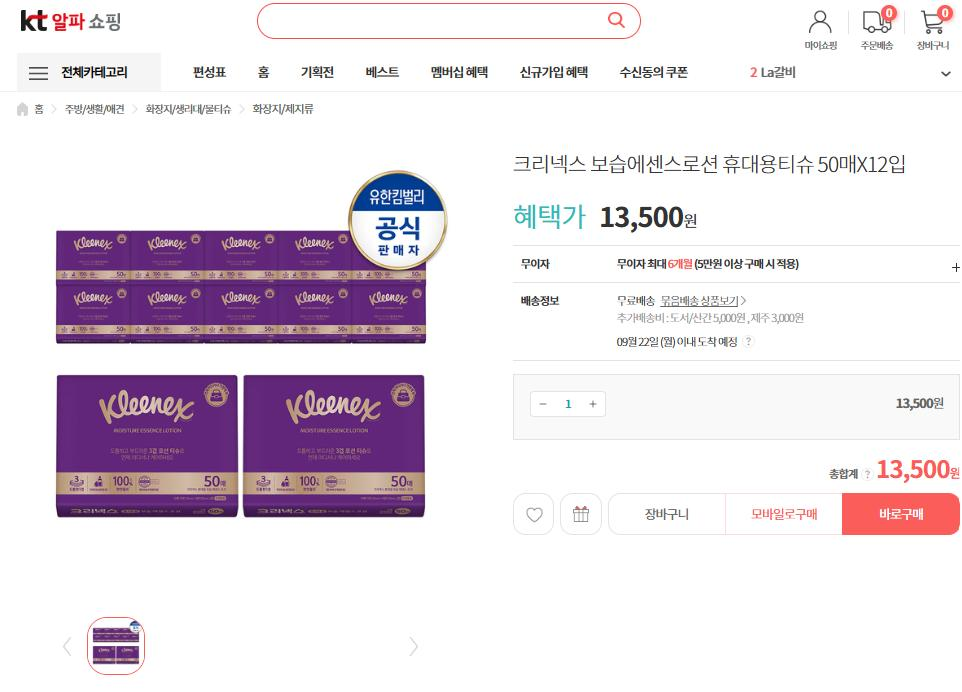button: (845, 492, 959, 535), (731, 494, 848, 533), (613, 496, 730, 534), (859, 0, 909, 50), (421, 58, 506, 87), (627, 55, 710, 83), (520, 494, 571, 538), (920, 2, 959, 56), (802, 5, 847, 51), (166, 60, 236, 86), (365, 56, 412, 91), (574, 499, 609, 539), (527, 63, 596, 83), (252, 60, 290, 94), (303, 57, 337, 89), (403, 635, 431, 657), (936, 257, 962, 279), (62, 634, 82, 658), (535, 393, 560, 412), (586, 395, 610, 414)
checkbox: (739, 54, 957, 89), (25, 57, 147, 88)
input_field: (255, 6, 644, 38)
